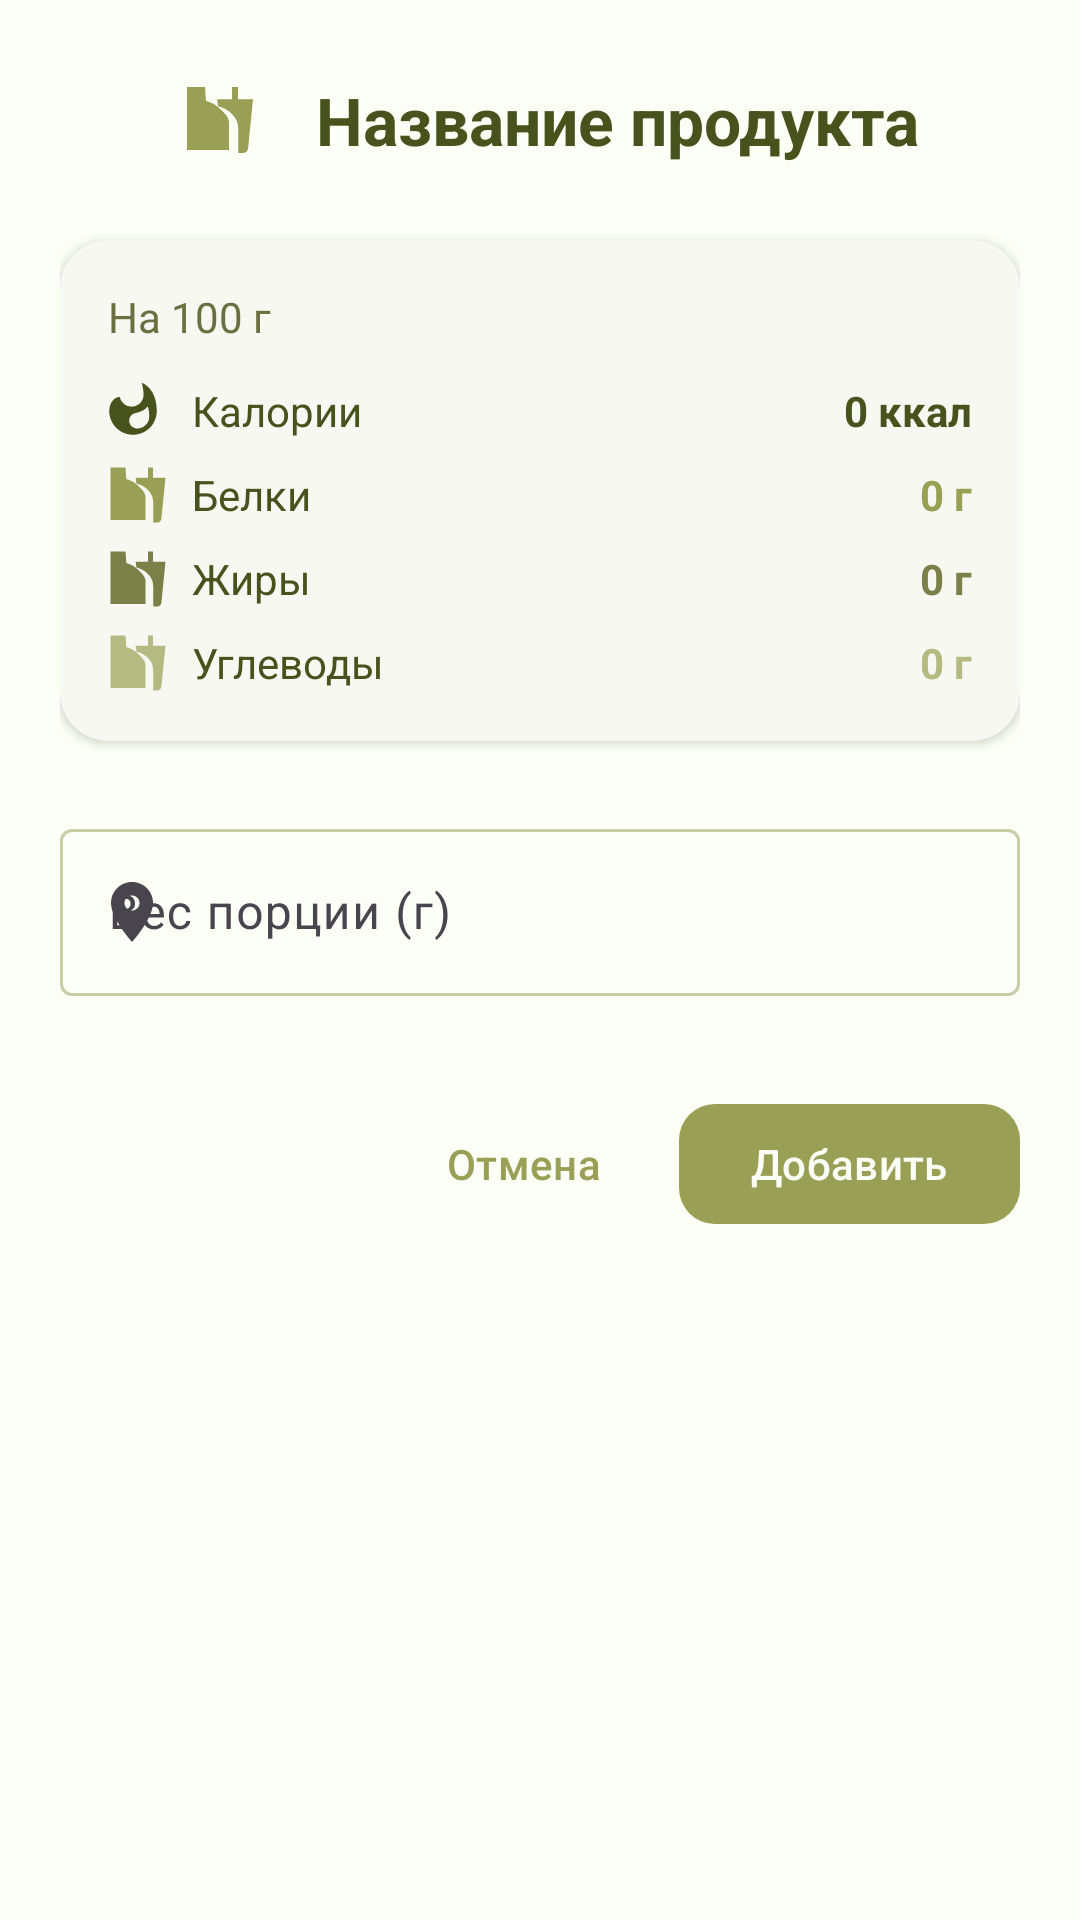

Locate icon controls on the screen. Image size 1080×1920, boxes as {"x1": x1, "y1": y1, "x2": x2, "y2": y2}.
calories: {"x1": 109, "y1": 383, "x2": 157, "y2": 435}
food: {"x1": 187, "y1": 87, "x2": 253, "y2": 153}, {"x1": 110, "y1": 467, "x2": 166, "y2": 523}, {"x1": 110, "y1": 551, "x2": 166, "y2": 607}, {"x1": 110, "y1": 635, "x2": 166, "y2": 691}
